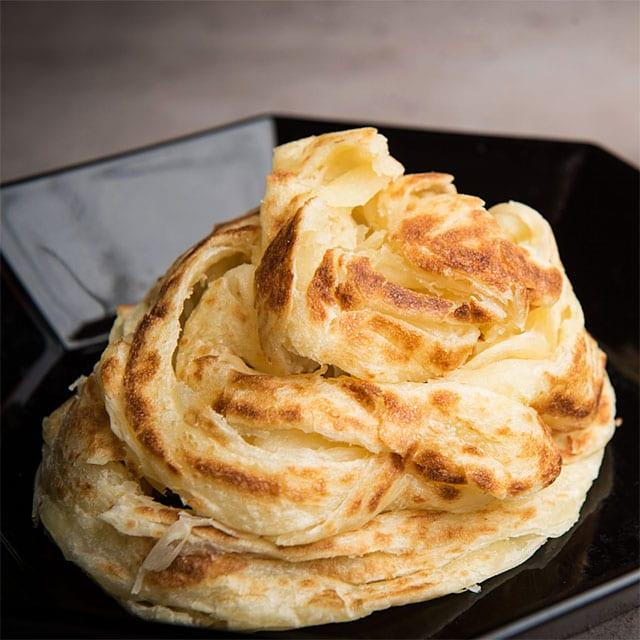Paratha: (63, 143, 599, 610)
